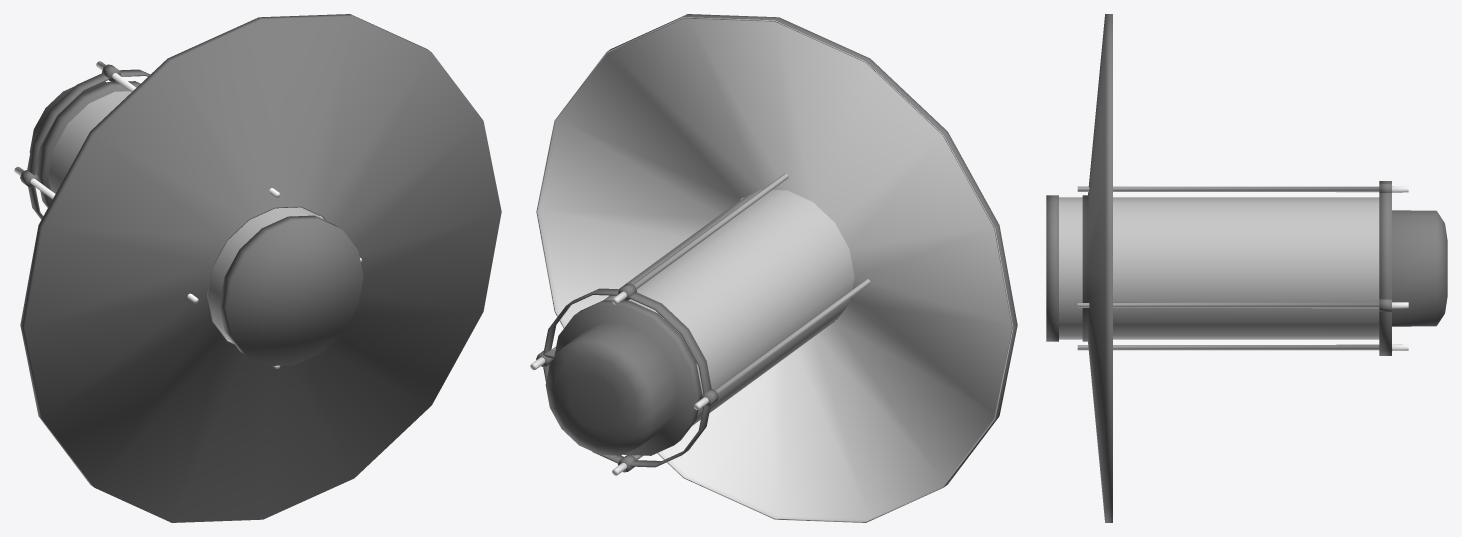
The model's file is City-Light Plus.obj.
The picture shows the model from 3 angles, left to right: view 1: azimuth 30°, elevation 25°; view 2: azimuth 150°, elevation 25°; view 3: azimuth 270°, elevation 25°; orthographic projection. The views are drawn at different scales.
Visible parts, largest first — view 1: Siteco_City-Light_Plus_BezierCurve.006; view 2: Siteco_City-Light_Plus_BezierCurve.006; view 3: Siteco_City-Light_Plus_BezierCurve.006.
Part boxes in pixels (bbox=[...]): Siteco_City-Light_Plus_BezierCurve.006: bbox=[14, 14, 501, 522]; Siteco_City-Light_Plus_BezierCurve.006: bbox=[530, 14, 1017, 522]; Siteco_City-Light_Plus_BezierCurve.006: bbox=[1046, 14, 1447, 522].
Size of the model in its own units: 0.7528 by 0.7528 by 0.5934.
